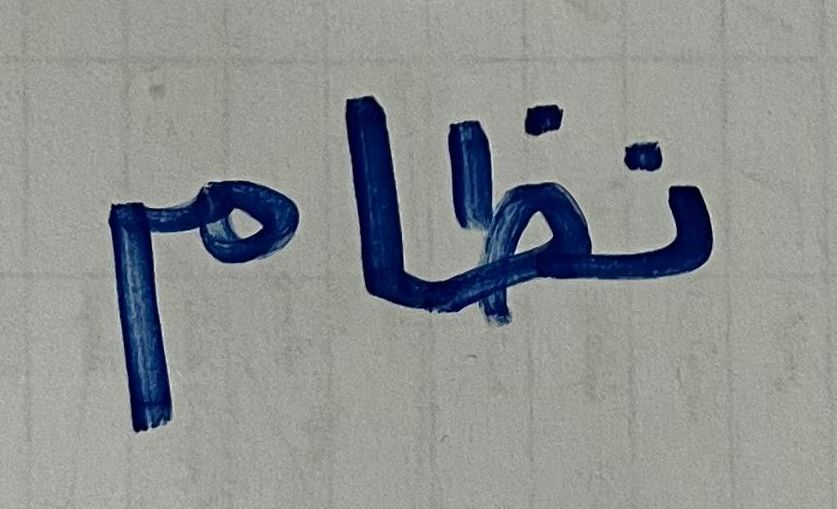alef: (325, 56, 414, 339)
meem: (75, 129, 315, 447)
noon: (603, 109, 758, 312)
zah: (418, 89, 598, 351)
